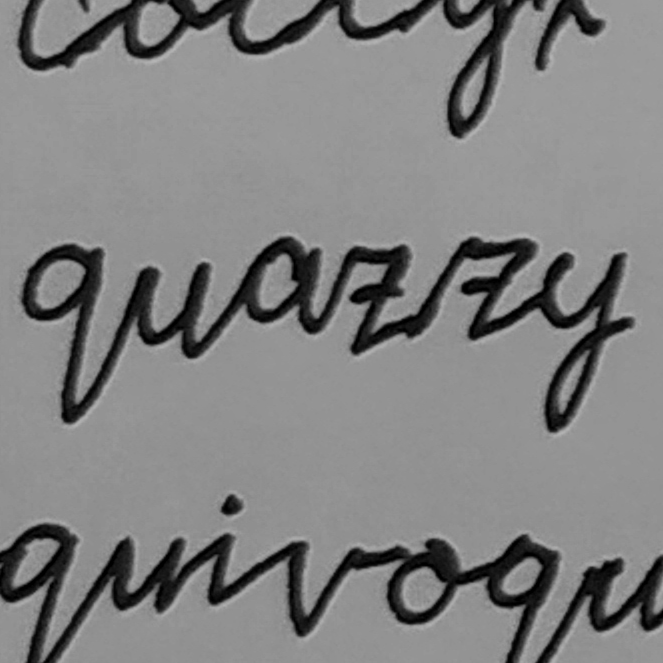a: (231, 230, 329, 337)
q: (15, 238, 114, 429)
u: (125, 253, 221, 366)
y: (534, 241, 639, 440)
z: (445, 232, 546, 342), (336, 237, 422, 360)
